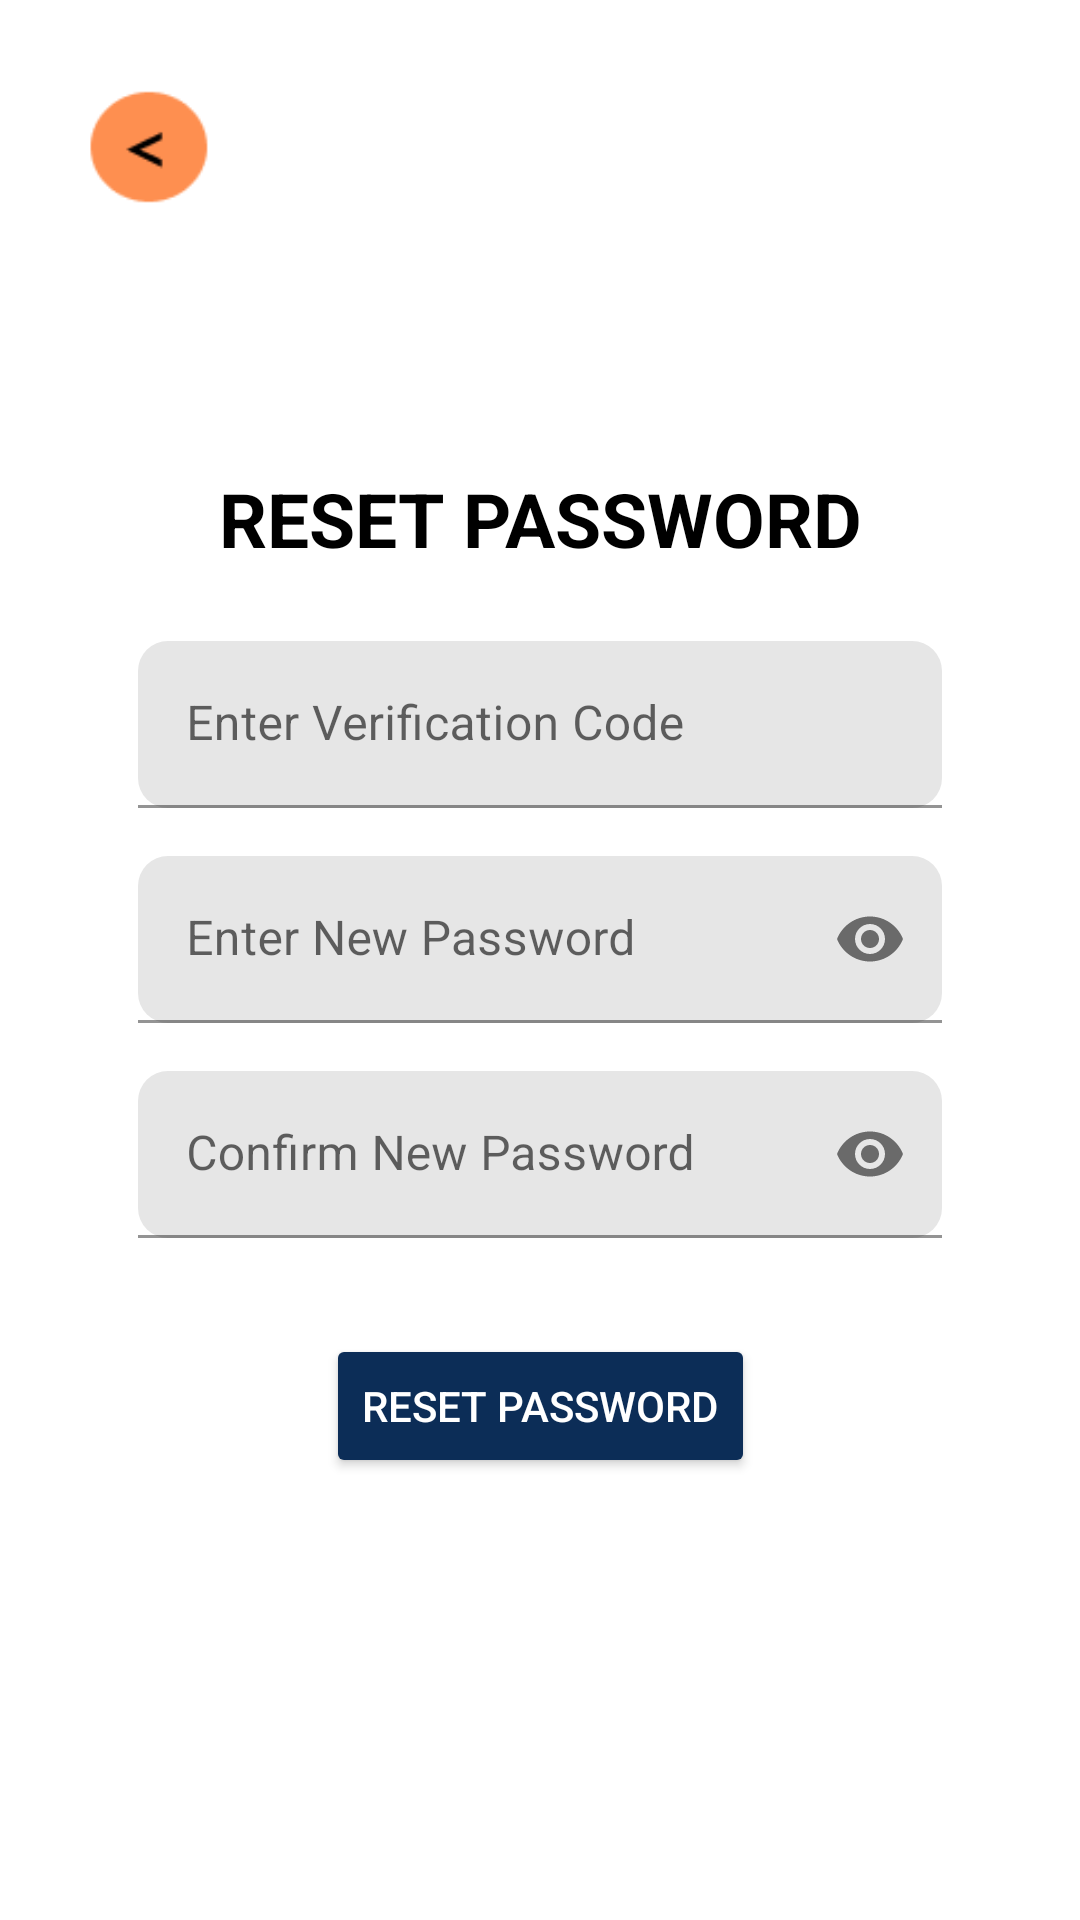

Screen size 1080px×1920px. Icon name, then its center in pixels as [x,y]:
Back: [149,147]
